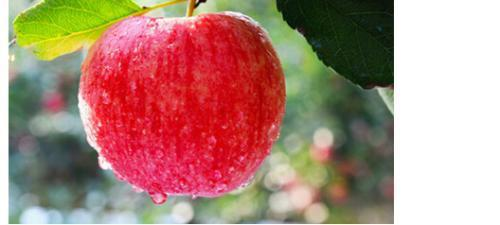apple: (79, 12, 285, 198)
